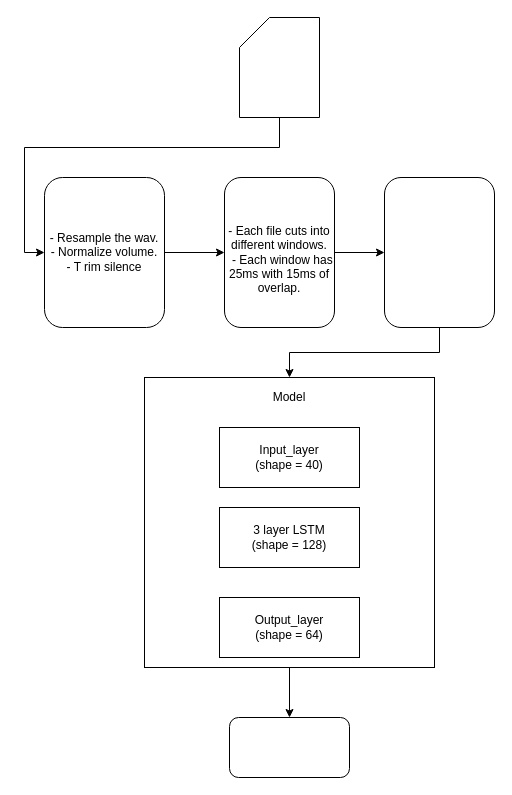
This 512x795 diagram has some shape labels left out. The centre of each missing label's shape, as x and y in pixels:
"Audio file" goes at (279,67).
"Each window has 25ms create 40-dimensional log-mel-filterbank coefficients" goes at (439,252).
"embedded vector shape = 64" goes at (289,747).
